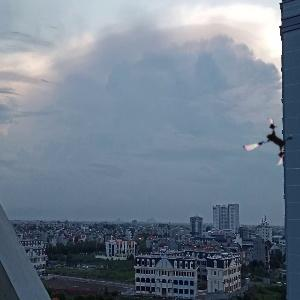drone: (244, 117, 298, 171)
